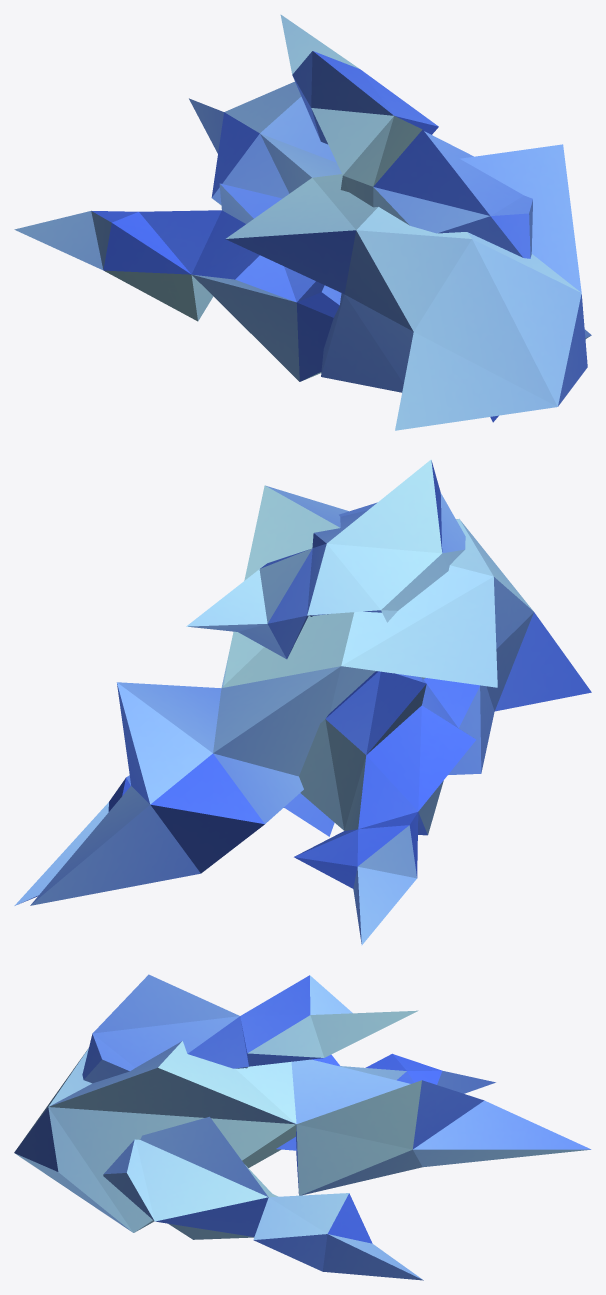
The model's file is frost_bolt.fbx.
3 renders of one model, top to bottom at view 1: azimuth 30°, elevation 25°; view 2: azimuth 150°, elevation 25°; view 3: azimuth 270°, elevation 25°, orthographic. The views are drawn at different scales.
Visible parts, largest first — view 1: frost_bolt; view 2: frost_bolt; view 3: frost_bolt.
Boxes of the visible parts, x1,y1,x2,y2 form: frost_bolt: (14,14,591,430); frost_bolt: (14,459,591,945); frost_bolt: (14,974,591,1280).
Size of the model in its own units: 1.01 by 0.8516 by 1.88.
Materials: 1 (1 with a texture image).
